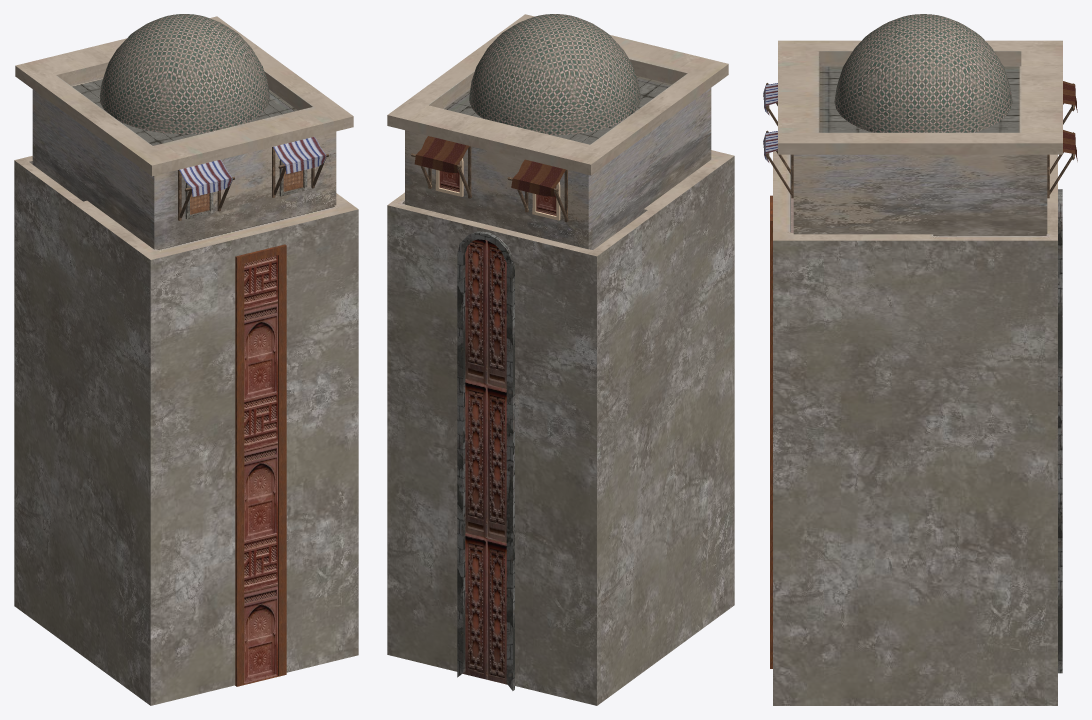
Rendered from medina_cityscape_daar_04_3.gltf.
The picture shows the model from 3 angles, left to right: view 1: azimuth 30°, elevation 25°; view 2: azimuth 150°, elevation 25°; view 3: azimuth 270°, elevation 25°; orthographic projection. The views are drawn at different scales.
Visible parts, largest first — view 1: medina_cityscape_daar_04_3; view 2: medina_cityscape_daar_04_3; view 3: medina_cityscape_daar_04_3.
Boxes of the visible parts, left/top/right/bottom form: medina_cityscape_daar_04_3: left=14, top=14, right=358, bottom=705; medina_cityscape_daar_04_3: left=387, top=14, right=734, bottom=705; medina_cityscape_daar_04_3: left=763, top=14, right=1077, bottom=705.
Size of the model in its own units: 3.14 by 8.78 by 3.94.
Materials: 9 (9 with a texture image).
